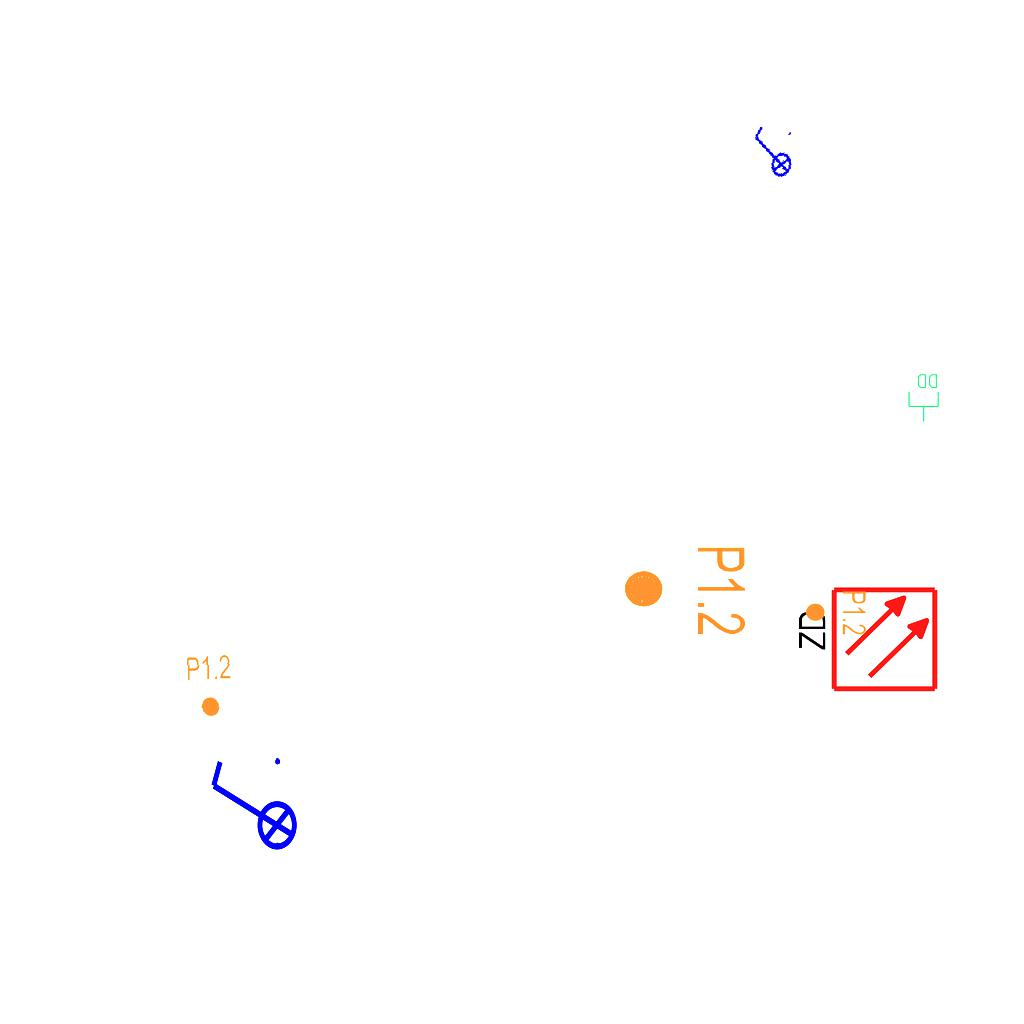Ausschalter_beleuchtet: (203, 752, 299, 864), (740, 119, 802, 187)
Datenanschluss_zweifach: (907, 372, 941, 423)
Downlight_LED_Einbauleuchten_Flur: (621, 544, 749, 637), (184, 652, 236, 720), (804, 590, 868, 636)
ZD_Melder_in_Zwischendecke_mit_Revisionsoeffnung_mind_40_x_40_cm: (791, 584, 940, 698)
